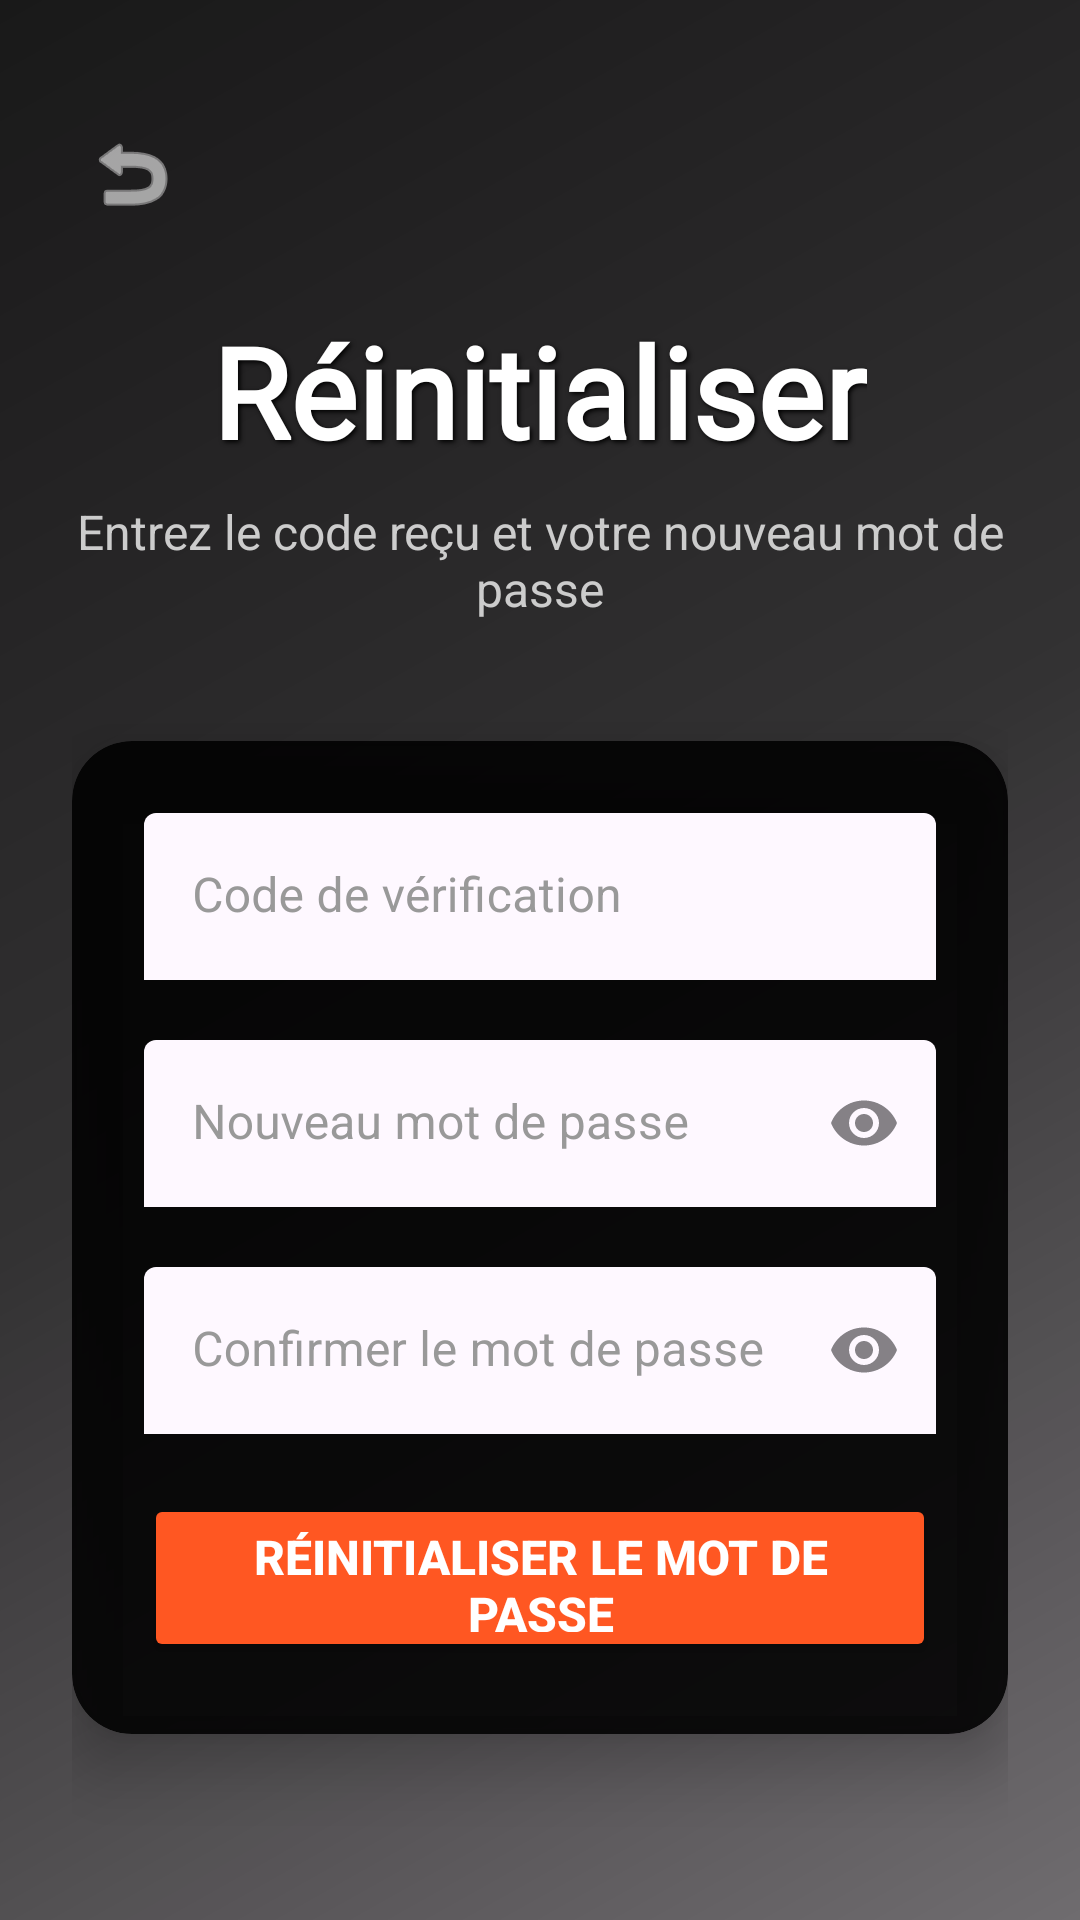

Locate icon controls on the screen. Image size 1080 × 1920, boxes as (x1, y1, x2, y2).
revert: (99, 143, 168, 206)
